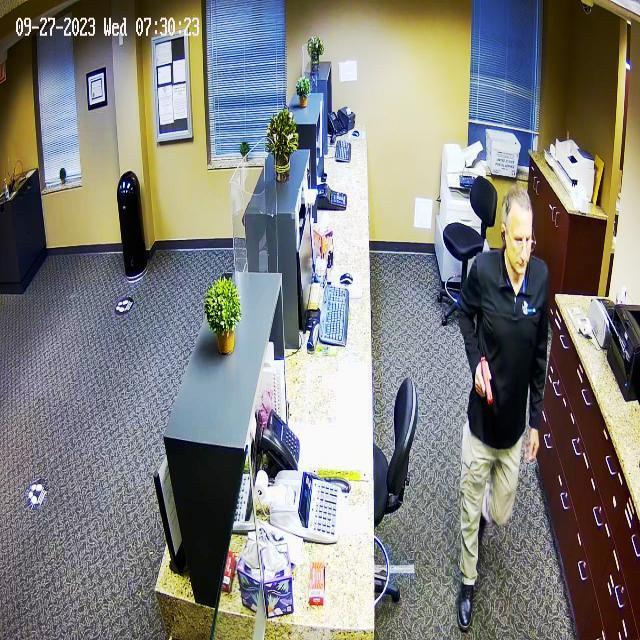Gun: (458, 348, 512, 422)
